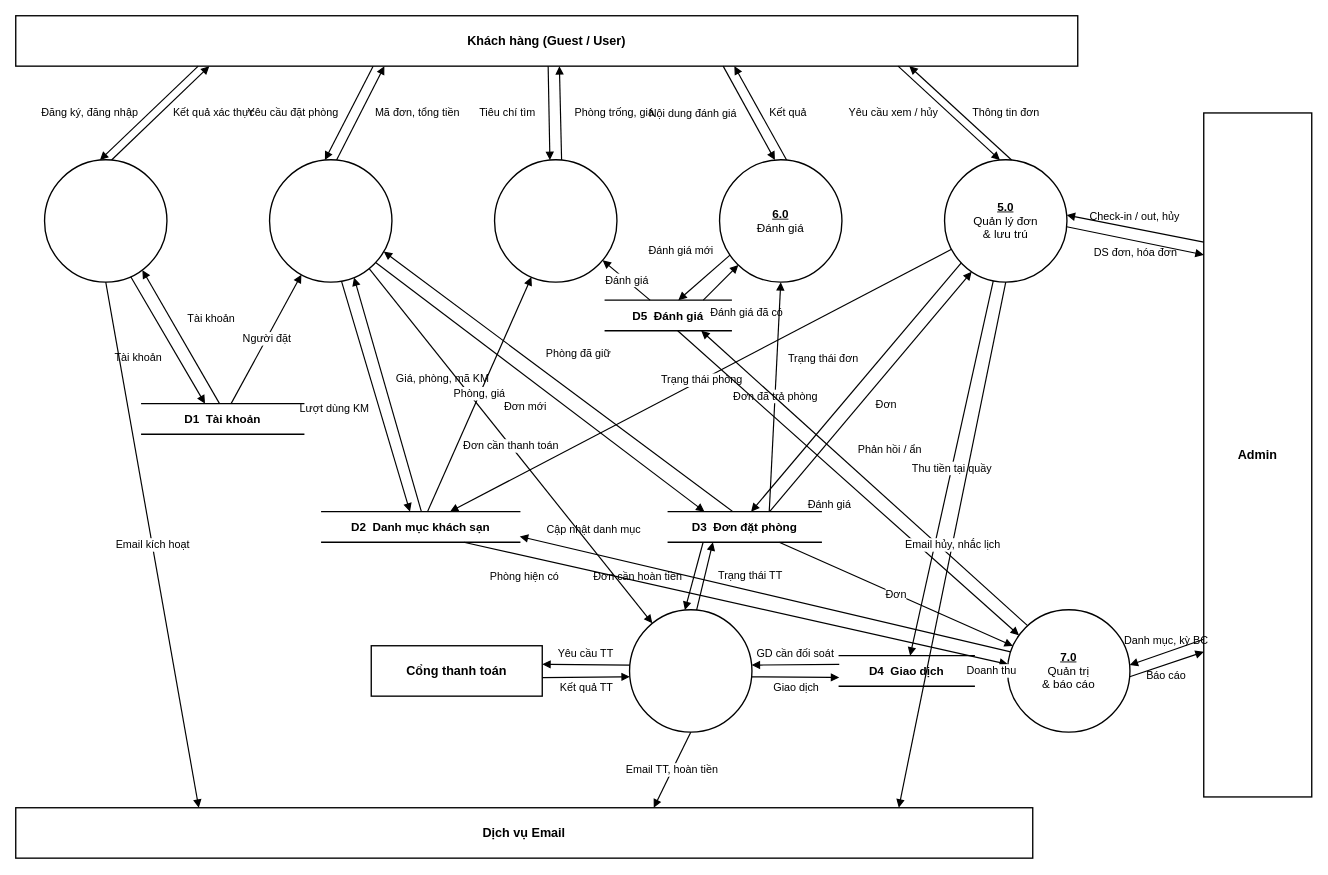
Some shapes in this 1328 by 875 pixel diagram are drawn without their labels. Here are the shapes that lost their labels. From the top down, the box of each, then its label:
(43, 159, 167, 282): 1.0 Quản lý tài khoản
(268, 159, 392, 282): 3.0 Đặt phòng
(493, 159, 617, 282): 2.0 Tìm kiếm phòng
(628, 609, 752, 732): 4.0 Thanh toán
